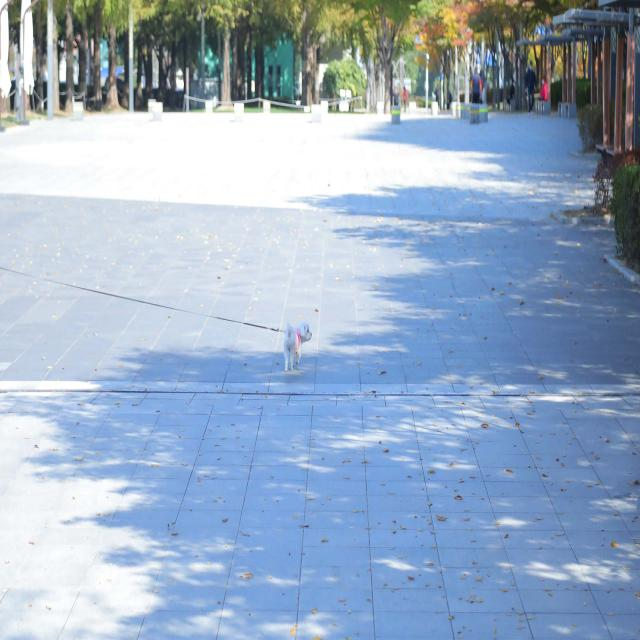Dog: (284, 320, 313, 373)
